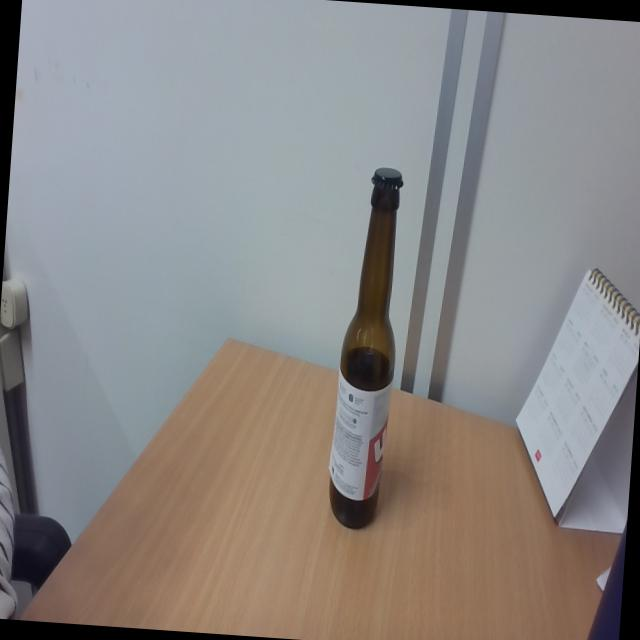Bottle: (327, 162, 409, 530)
Cap: (365, 162, 405, 194)
Label: (328, 374, 392, 504)
